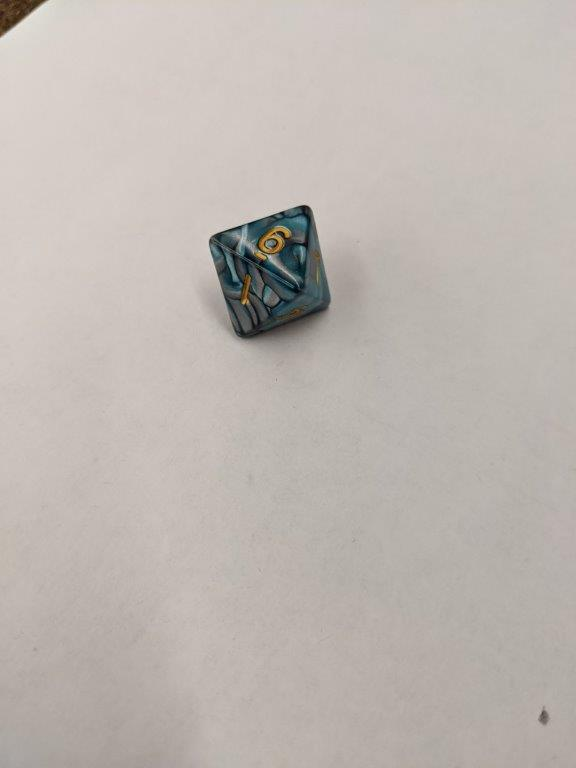d8-6: (205, 202, 333, 342)
